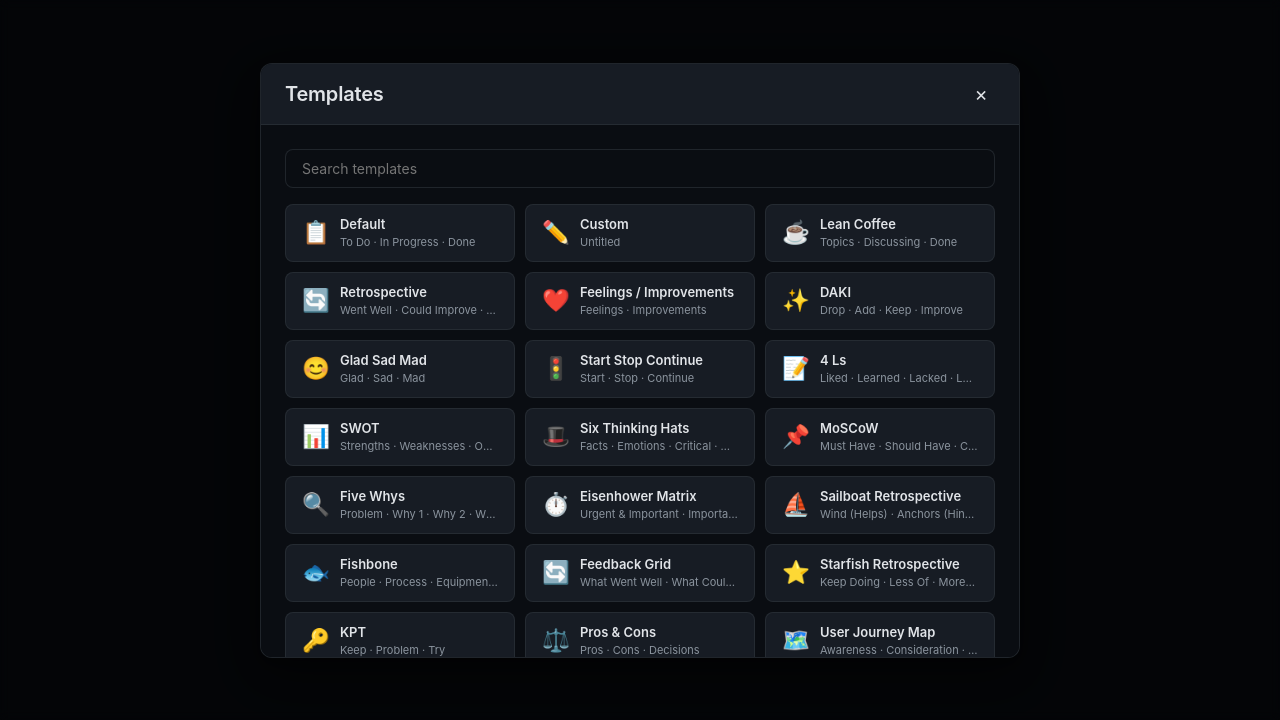
Test: NewBoardTemplateModal › shows an empty message when nothing matches
Type "zzzz-no-match" into the search field with placeholder "Search templates" at (640, 168), box [285, 148, 995, 188]
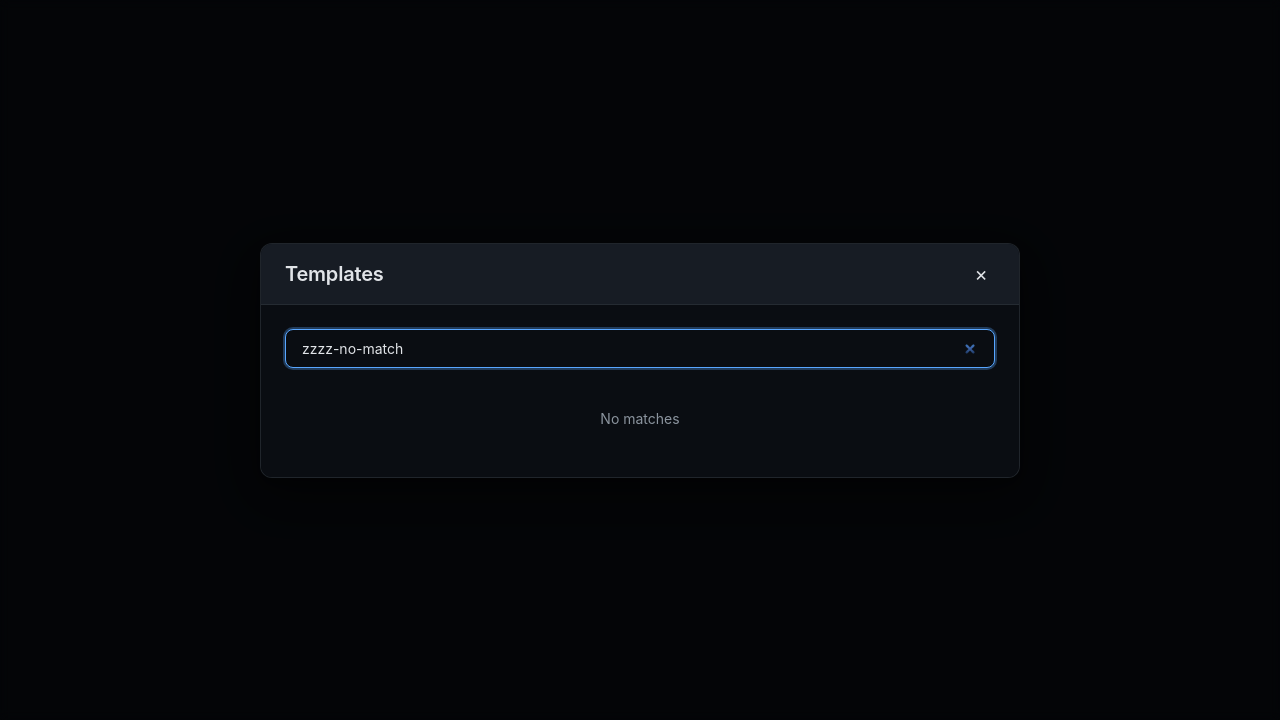
Result: the text "No matches" is shown at [600, 410, 680, 426]
